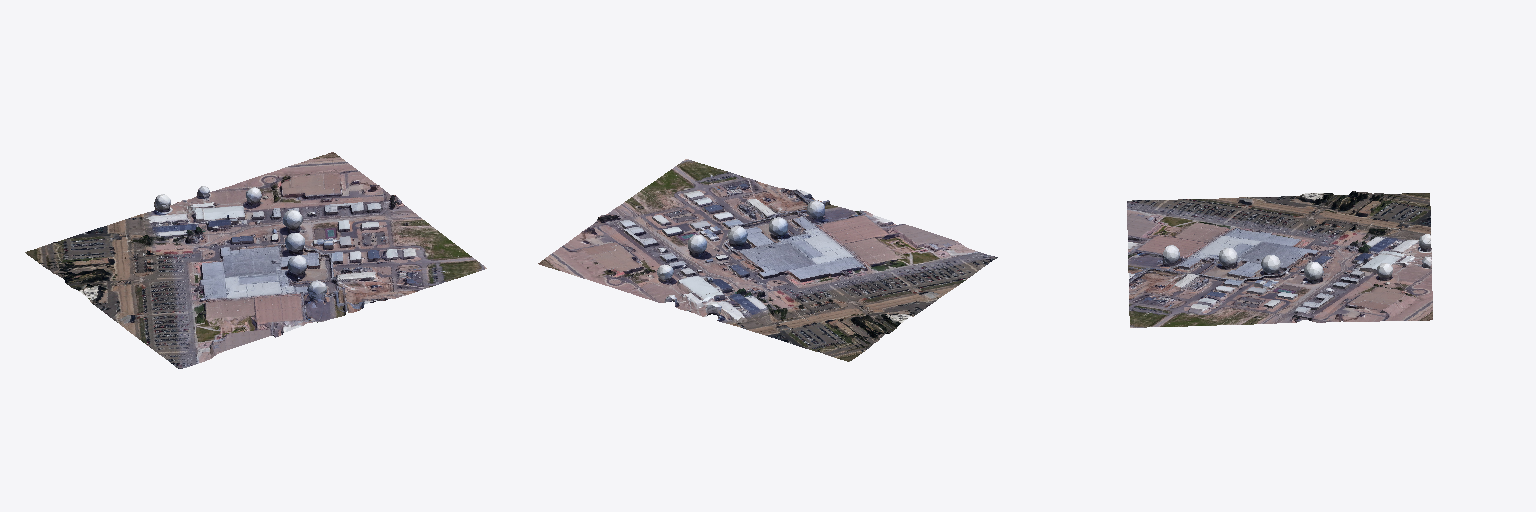
3 renders of one model, left to right at view 1: azimuth 30°, elevation 25°; view 2: azimuth 150°, elevation 25°; view 3: azimuth 270°, elevation 25°, orthographic.
Parts seen in each view (by area): view 1: nsaco:Mesh; view 2: nsaco:Mesh; view 3: nsaco:Mesh.
Part boxes in pixels (bbox=[...]): nsaco:Mesh: bbox=[25, 152, 486, 368]; nsaco:Mesh: bbox=[538, 159, 997, 361]; nsaco:Mesh: bbox=[1127, 191, 1432, 327].
Bounding box in the file's own units: 124 × 15.11 × 105.
Materials: 1 (1 with a texture image).